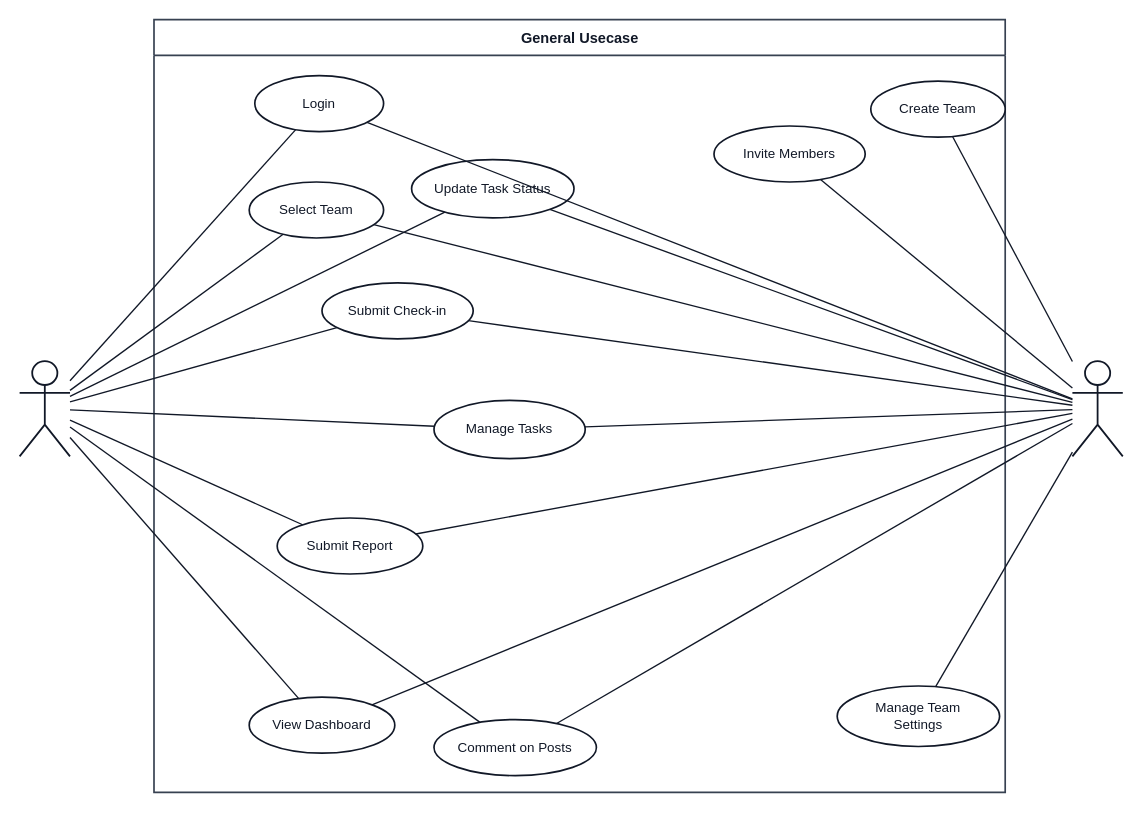
This 1144x813 diagram has some shape labels left out. Each missing label, with the centre of its shape:
Admin: (x=1097, y=408)
User: (x=44, y=408)
